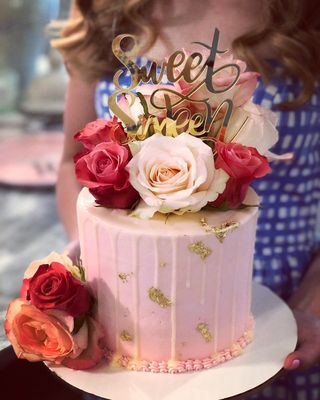sushi: (50, 0, 313, 394)
